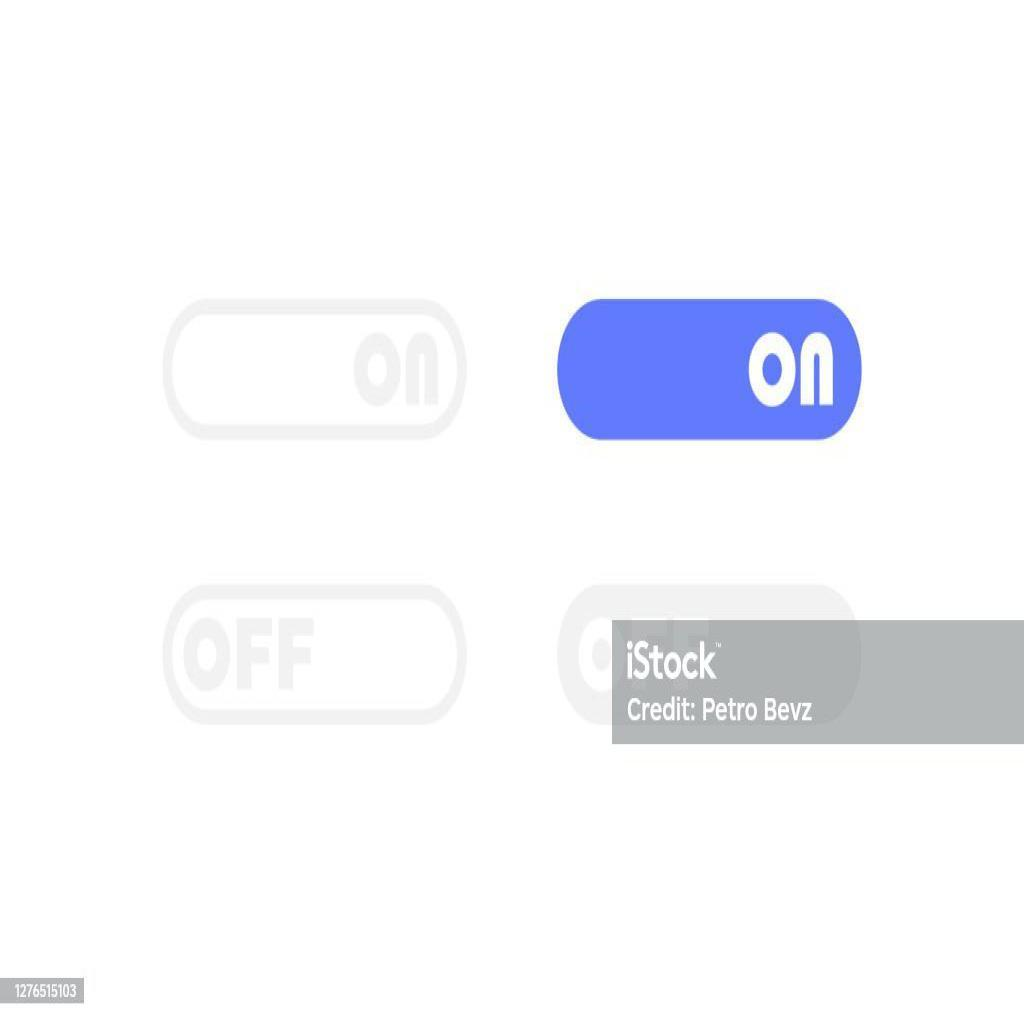switch: (167, 583, 466, 730), (559, 301, 861, 441), (167, 302, 469, 441)
